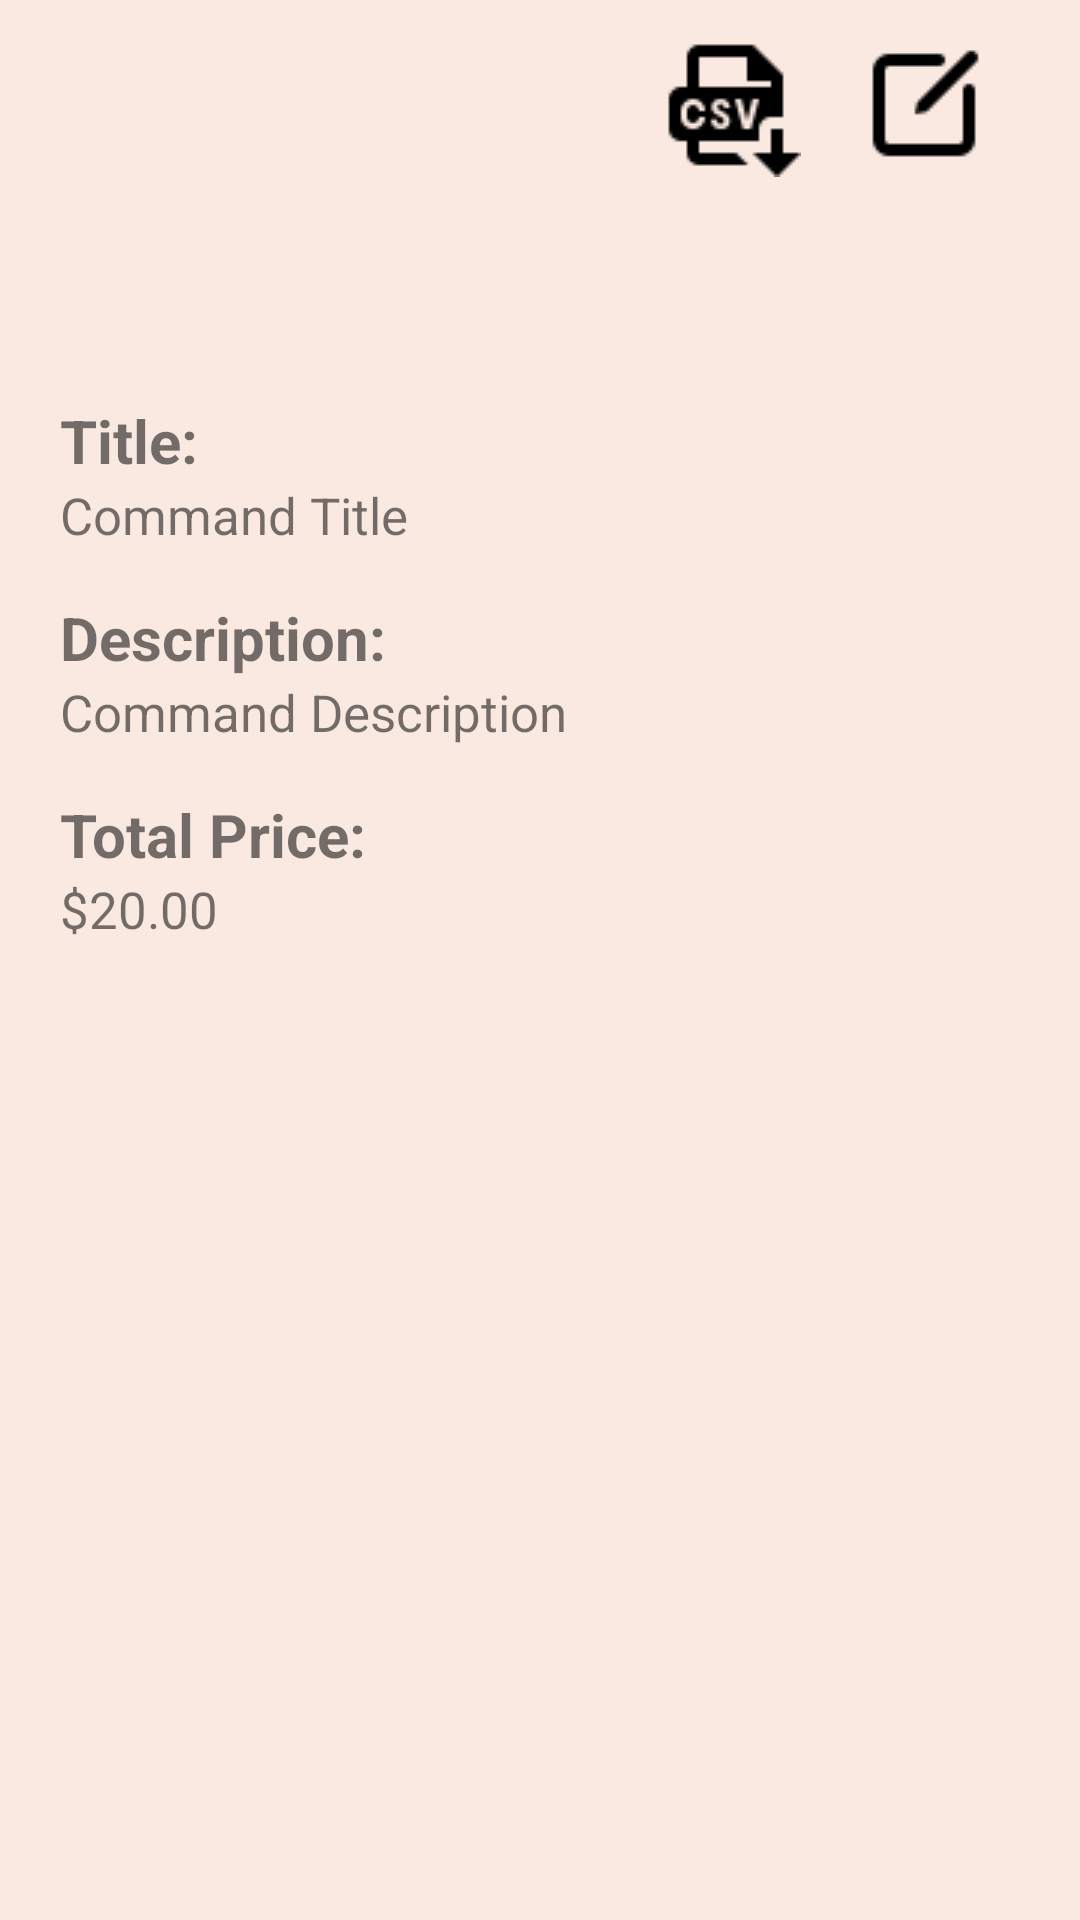

Named icons in this screenshot (1080*1920) and their bounding boxes, region(x1, y1, x2, y2):
Edit: region(872, 50, 979, 157)
Export to CSV: region(668, 44, 801, 177)
